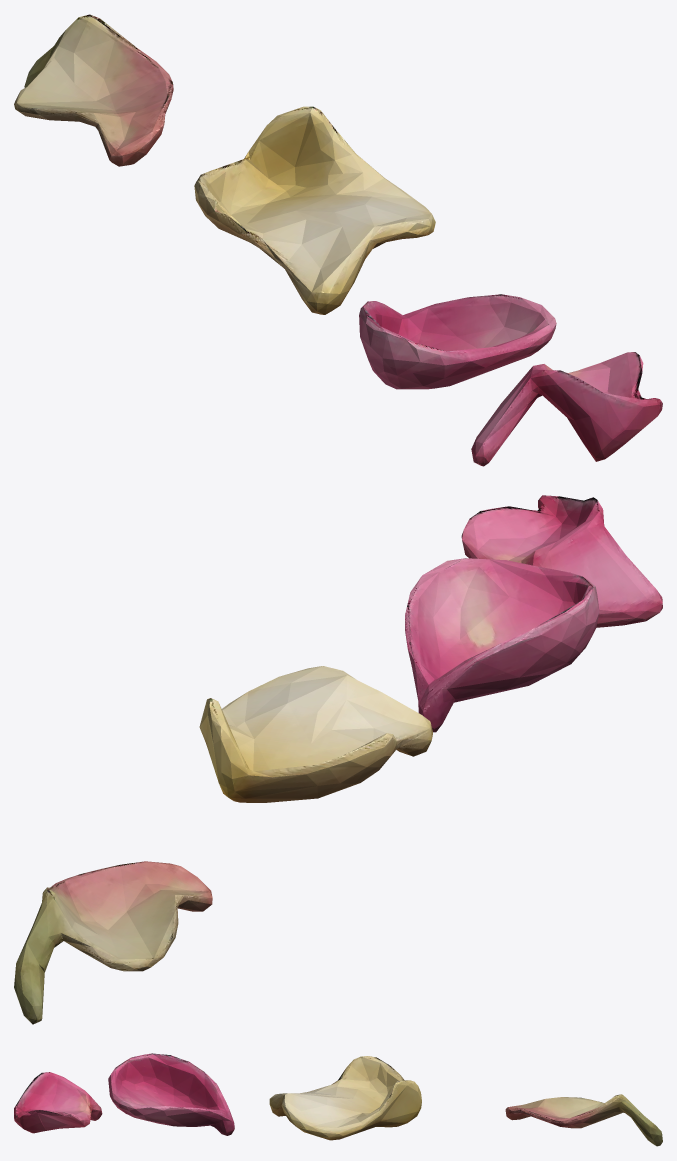
3 renders of one model, top to bottom at view 1: azimuth 30°, elevation 25°; view 2: azimuth 150°, elevation 25°; view 3: azimuth 270°, elevation 25°, orthographic. The views are drawn at different scales.
Visible parts, largest first — view 1: world; view 2: world; view 3: world.
Part boxes in pixels (x1,y1,x2,y2): world: (14, 14, 662, 466); world: (14, 495, 662, 1024); world: (14, 1053, 662, 1146).
Bounding box in the file's own units: 0.209 × 0.1359 × 0.9995.
1 material, 1 textured.
